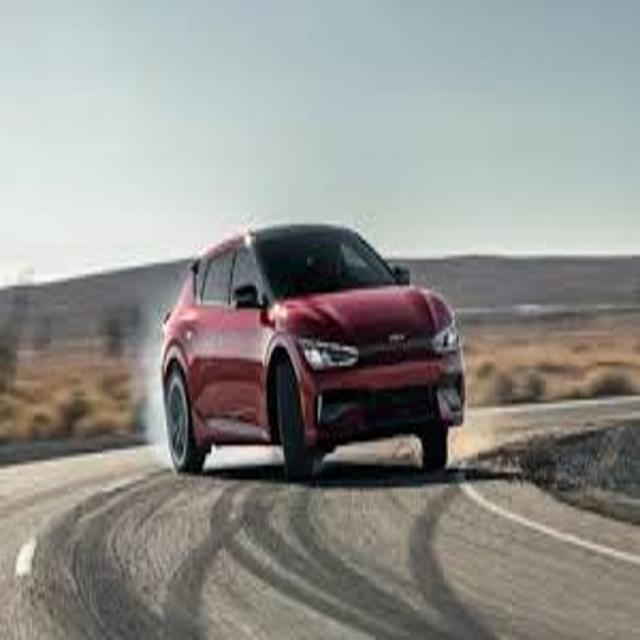car: (160, 225, 464, 474)
